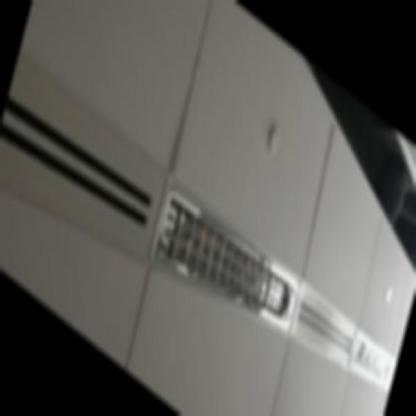light_off: (147, 154, 309, 369), (337, 310, 401, 415)
